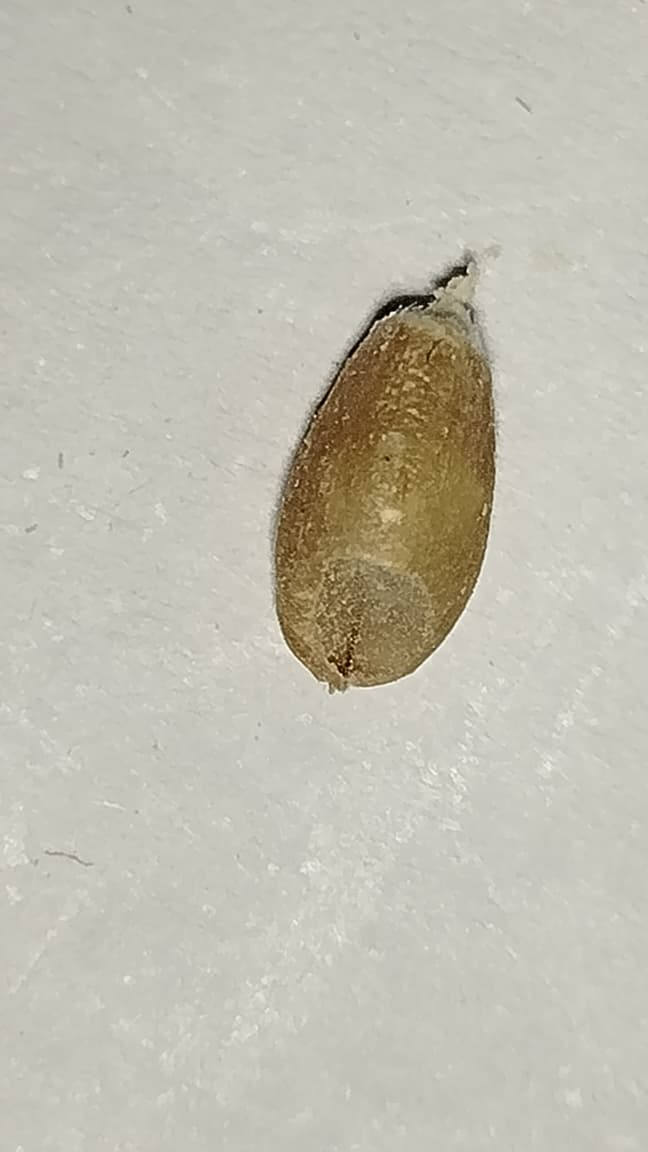damage: (276, 256, 495, 689)
insectdamage: (312, 529, 464, 674)
